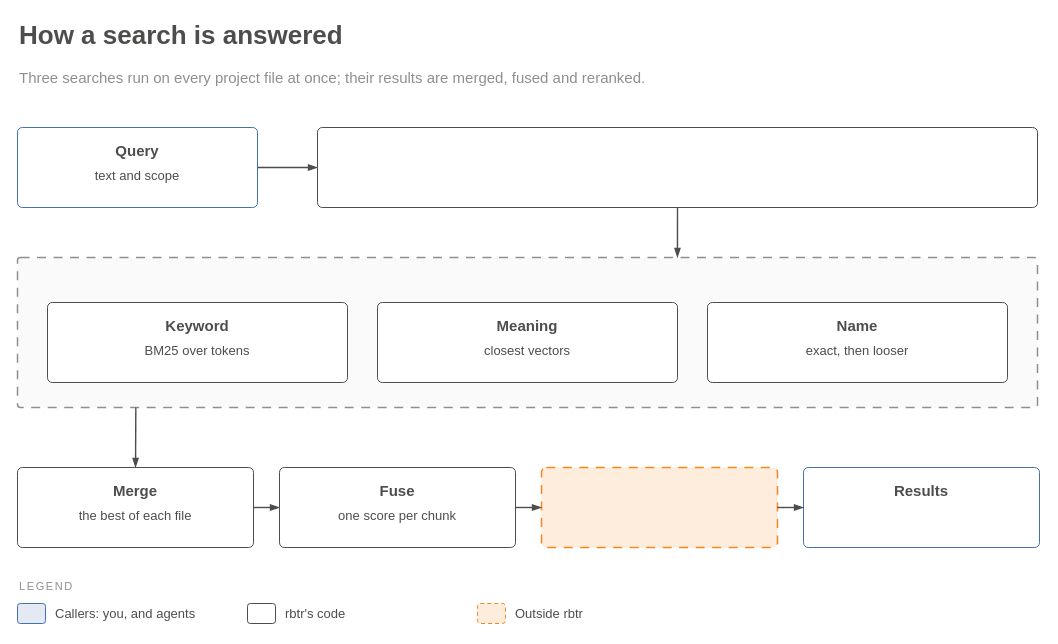
This 1058x644 diagram has some shape labels left out. Each missing label, with the box of its shape:
ON EACH PROJECT FILE, AT ONCE: (16, 256, 1038, 408)
Prepare the snapshots to read · the query's kind · its vector: (316, 126, 1038, 208)
Rerank the top few, by a model: (540, 466, 778, 548)
